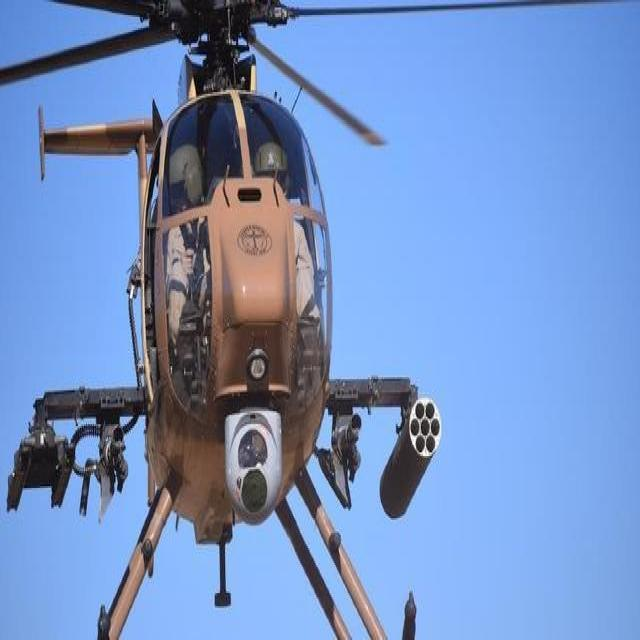MIL_HELO: (0, 0, 460, 640)
